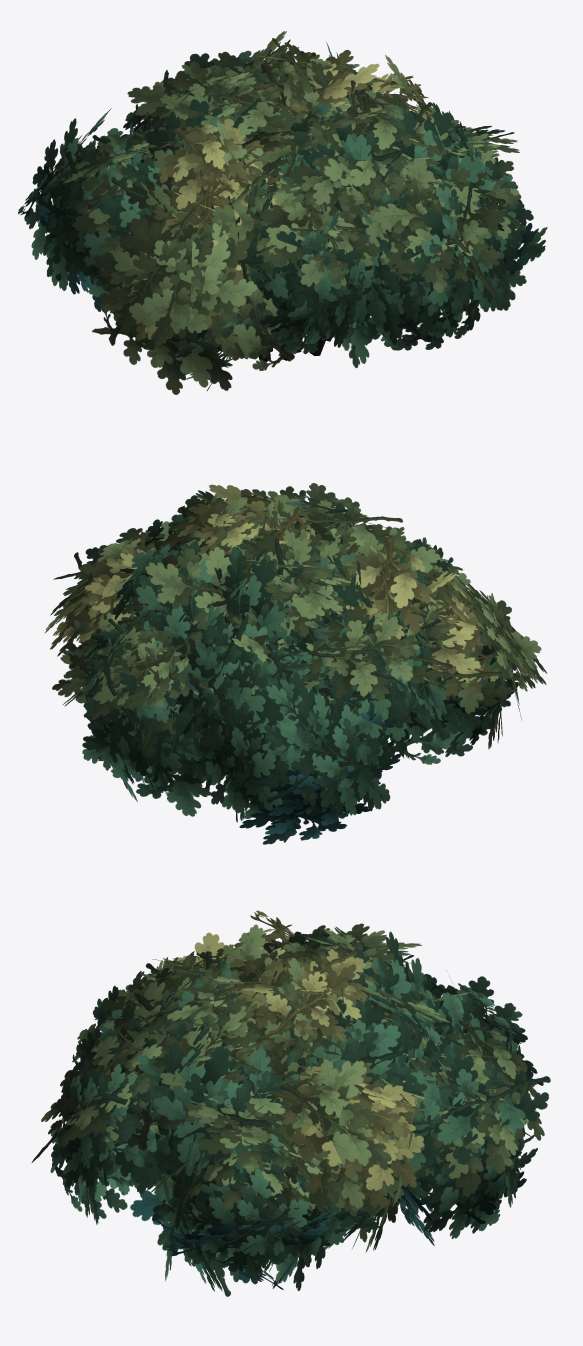
The model's file is shrub_low.glb.
3 renders of one model, top to bottom at view 1: azimuth 30°, elevation 25°; view 2: azimuth 150°, elevation 25°; view 3: azimuth 270°, elevation 25°, orthographic. The views are drawn at different scales.
Visible parts, largest first — view 1: shrub_low; view 2: shrub_low; view 3: shrub_low.
Part boxes in pixels (x1,y1,x2,y2): shrub_low: [18, 31, 547, 394]; shrub_low: [45, 483, 547, 844]; shrub_low: [31, 910, 550, 1296].
Bounding box in the file's own units: 0.774 × 0.4939 × 0.7206.
Materials: 2 (2 with a texture image).
